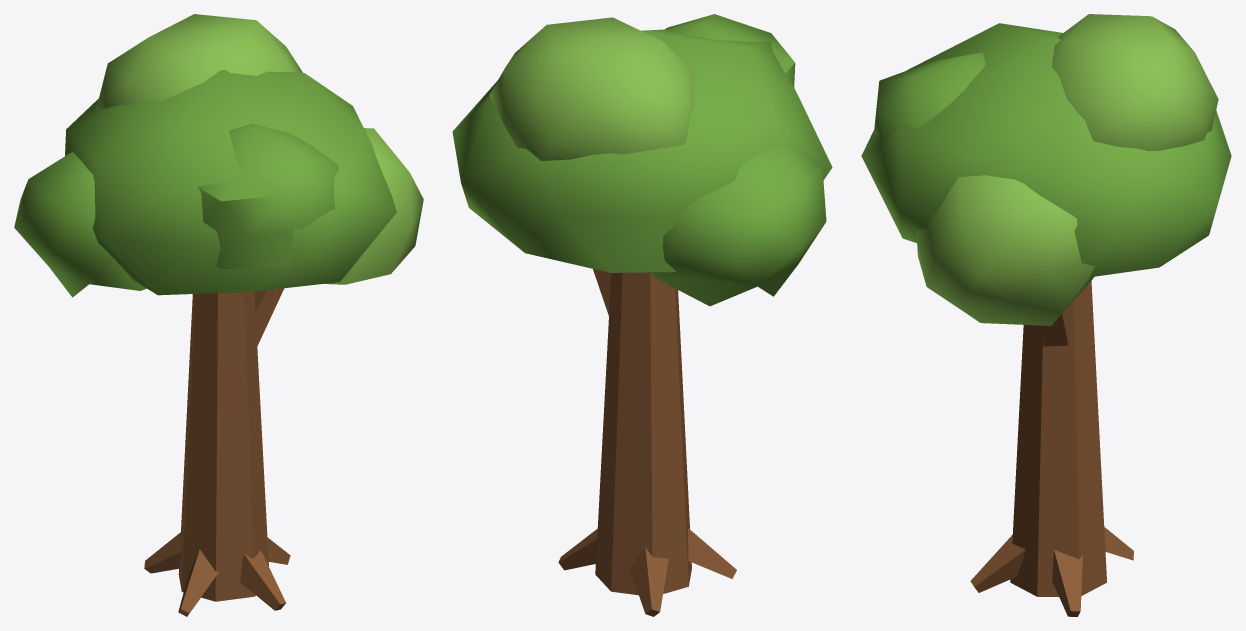
Rendered from tree_round.glb.
The picture shows the model from 3 angles, left to right: view 1: azimuth 30°, elevation 25°; view 2: azimuth 150°, elevation 25°; view 3: azimuth 270°, elevation 25°; orthographic projection. The views are drawn at different scales.
Visible parts, largest first — view 1: tree_round; view 2: tree_round; view 3: tree_round.
Boxes of the visible parts, x1,y1,x2,y2 form: tree_round: [14, 14, 423, 616]; tree_round: [452, 14, 832, 616]; tree_round: [861, 14, 1231, 616].
Size of the model in its own units: 3.34 by 4.96 by 2.98.
Materials: 1 (1 with a texture image).
